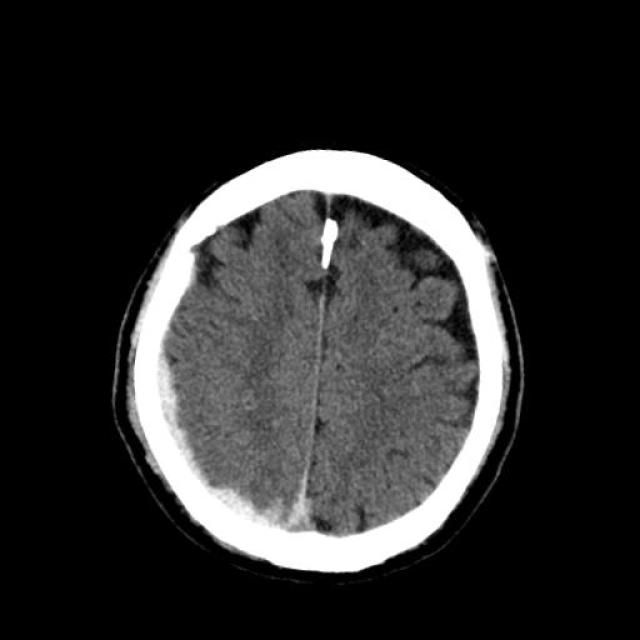Subdural: (119, 347, 322, 548)
